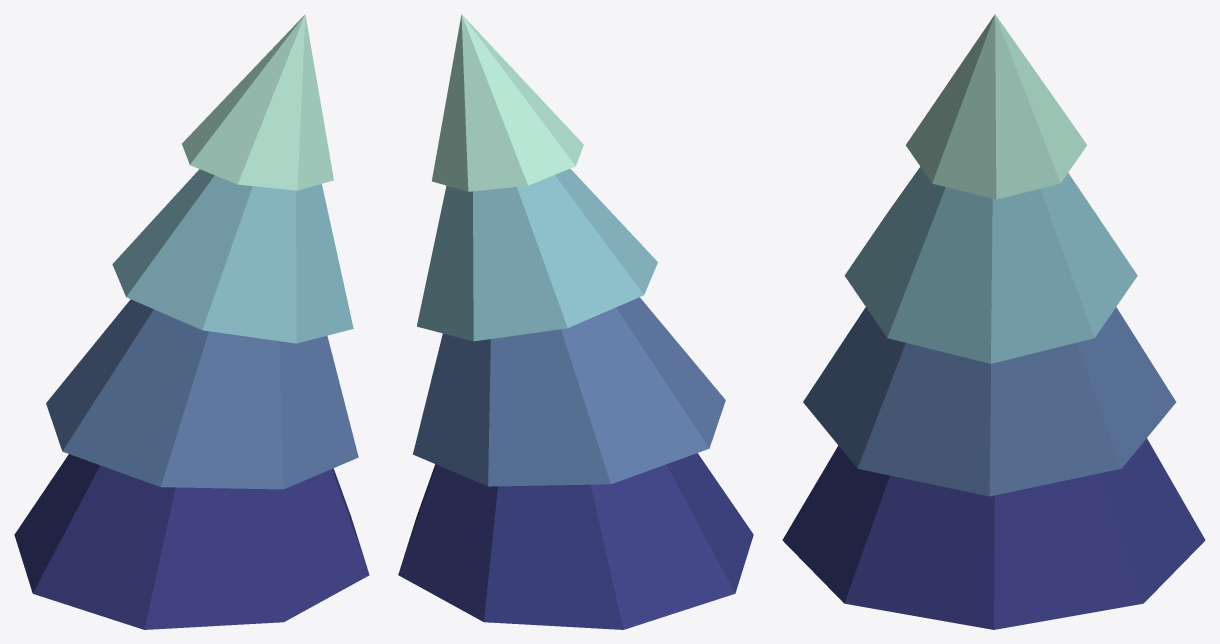
Rendered from 01_02Tree_Blue.fbx.
3 views of the same model, side by side, from view 1: azimuth 30°, elevation 25°; view 2: azimuth 150°, elevation 25°; view 3: azimuth 270°, elevation 25° (orthographic). The views are drawn at different scales.
Parts seen in each view (by area): view 1: Cone.001; view 2: Cone.001; view 3: Cone.001.
Part boxes in pixels (x1=…): Cone.001: x1=14, y1=14, x2=369, y2=629; Cone.001: x1=398, y1=14, x2=753, y2=629; Cone.001: x1=782, y1=14, x2=1205, y2=629.
Bounding box in the file's own units: 125 × 192 × 125.
